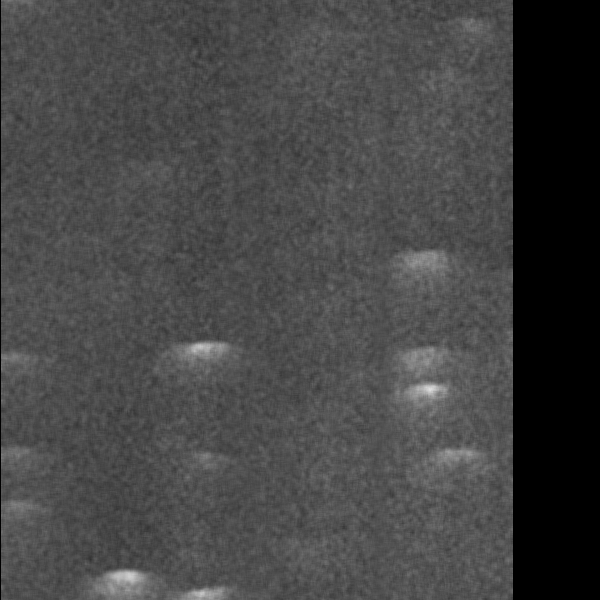spark: (90, 413, 128, 467), (326, 127, 363, 181), (166, 436, 219, 473), (13, 347, 48, 399), (50, 492, 83, 528), (385, 150, 414, 190), (384, 90, 420, 120), (95, 390, 122, 406)
